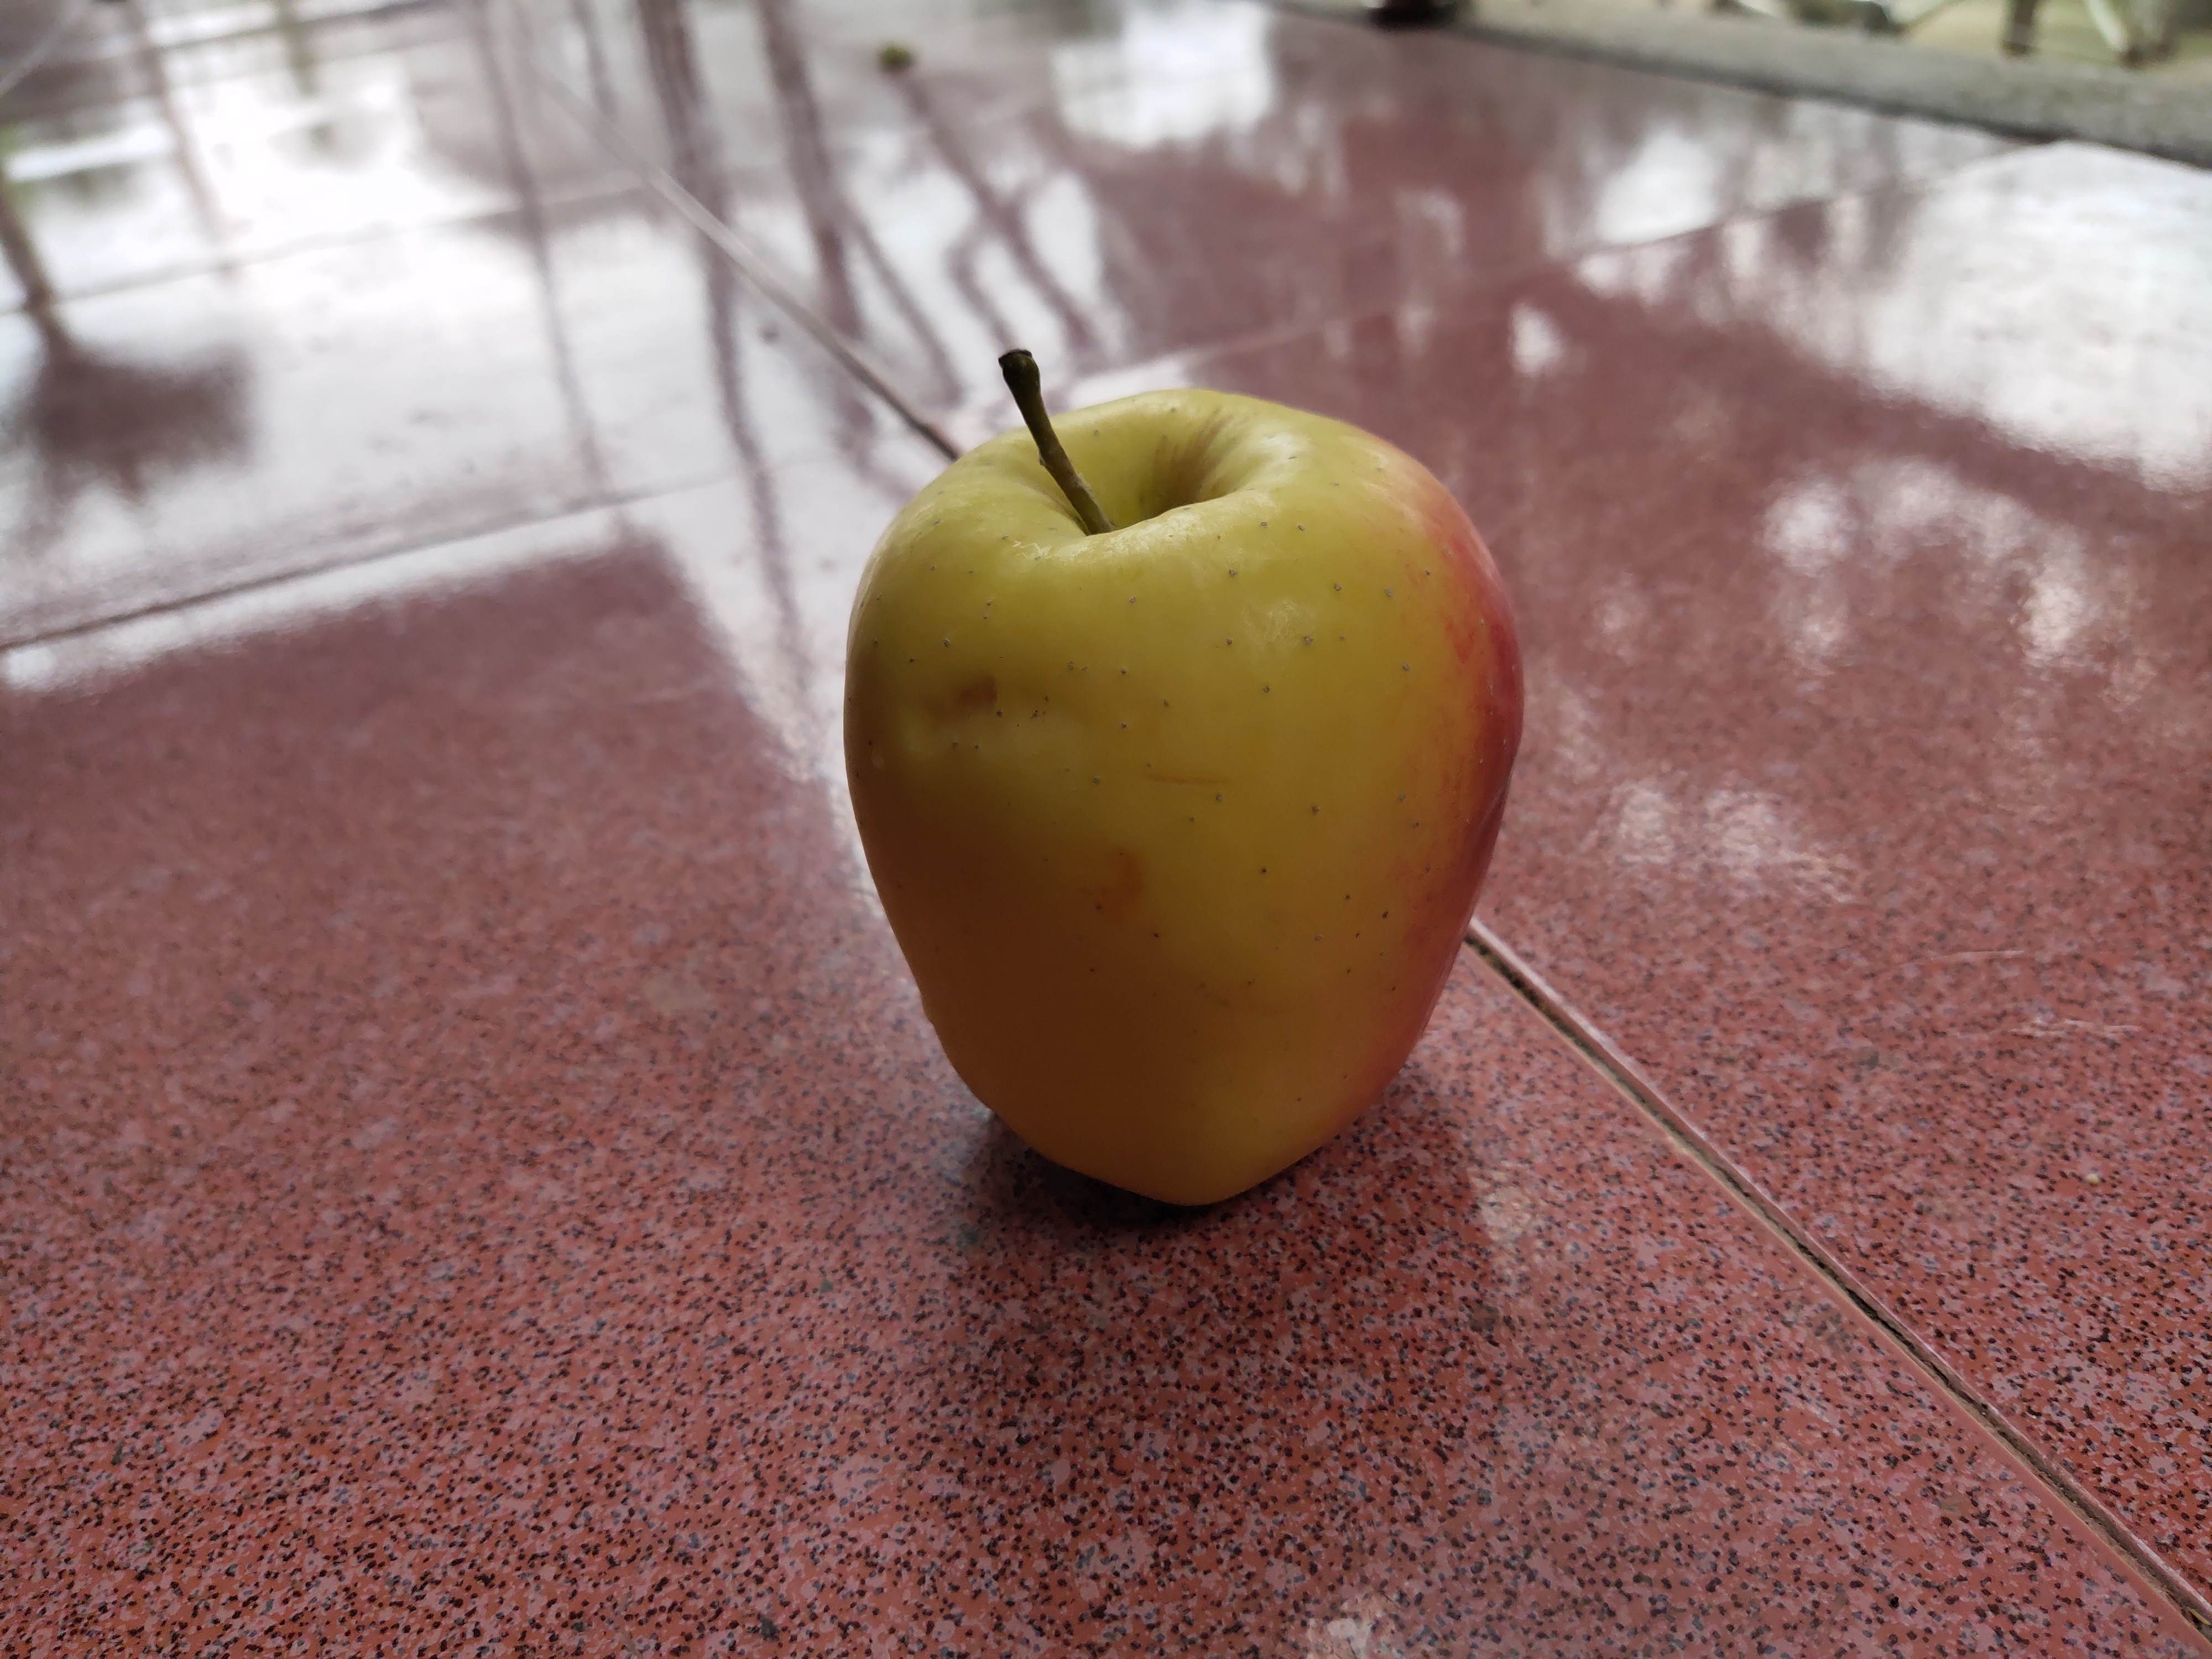apple: (833, 343, 1536, 1216)
